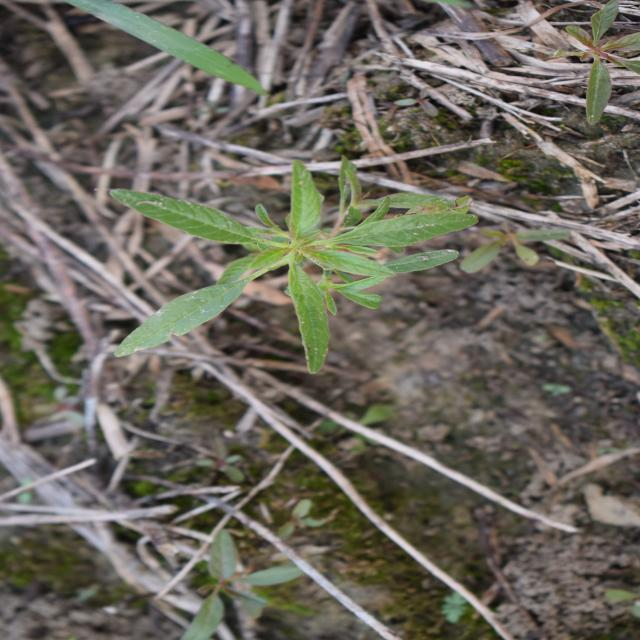Waterhemp: (106, 154, 484, 378)
